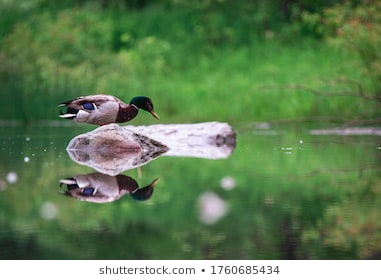duck: (53, 167, 188, 216), (57, 85, 173, 131)
